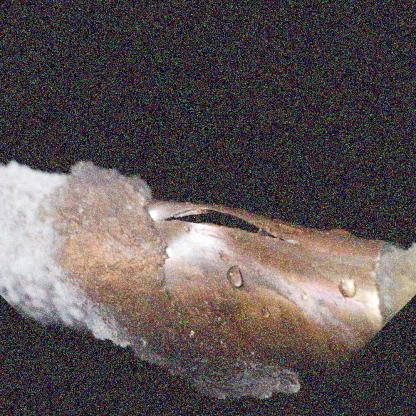burst: (137, 163, 296, 278)
